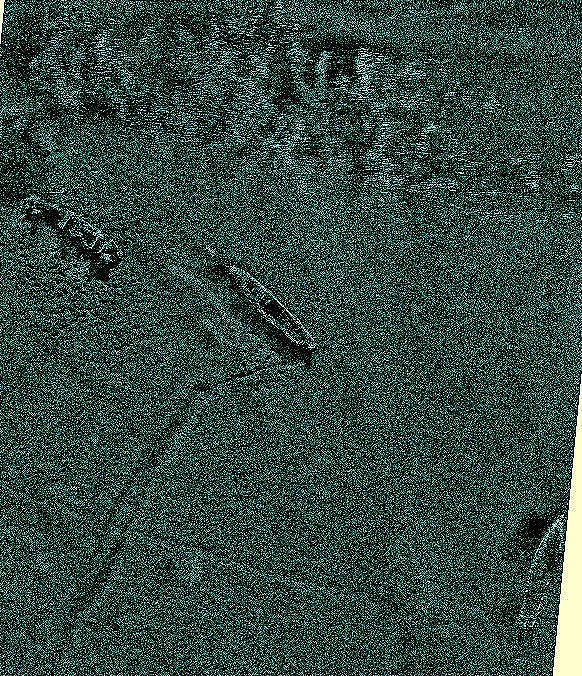ship: (223, 263, 321, 355), (19, 192, 122, 269)
